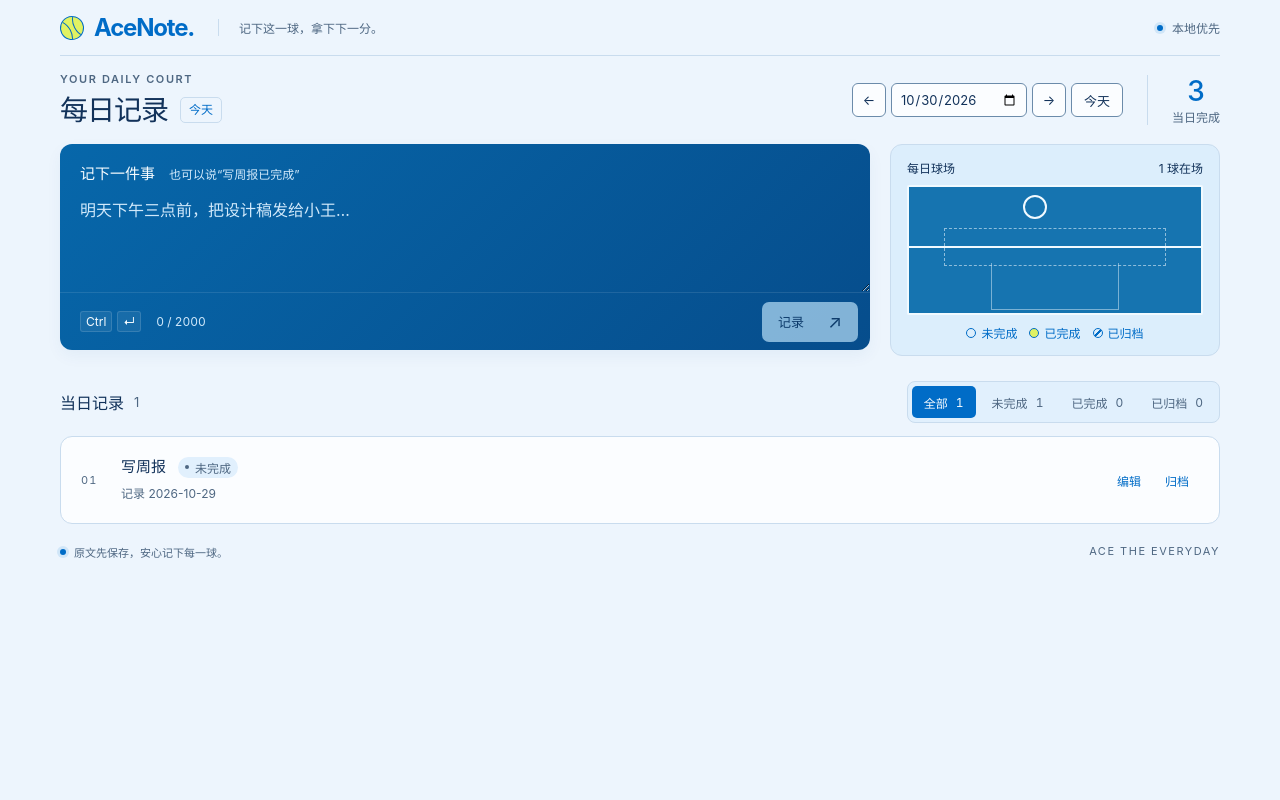
Scenario: UI polish behavior › keeps the draft when submission fails
Type "不能丢失的输入" into the text box named "待办或完成指令" at (465, 238), box top-left (60, 183), bottom-right (870, 292)
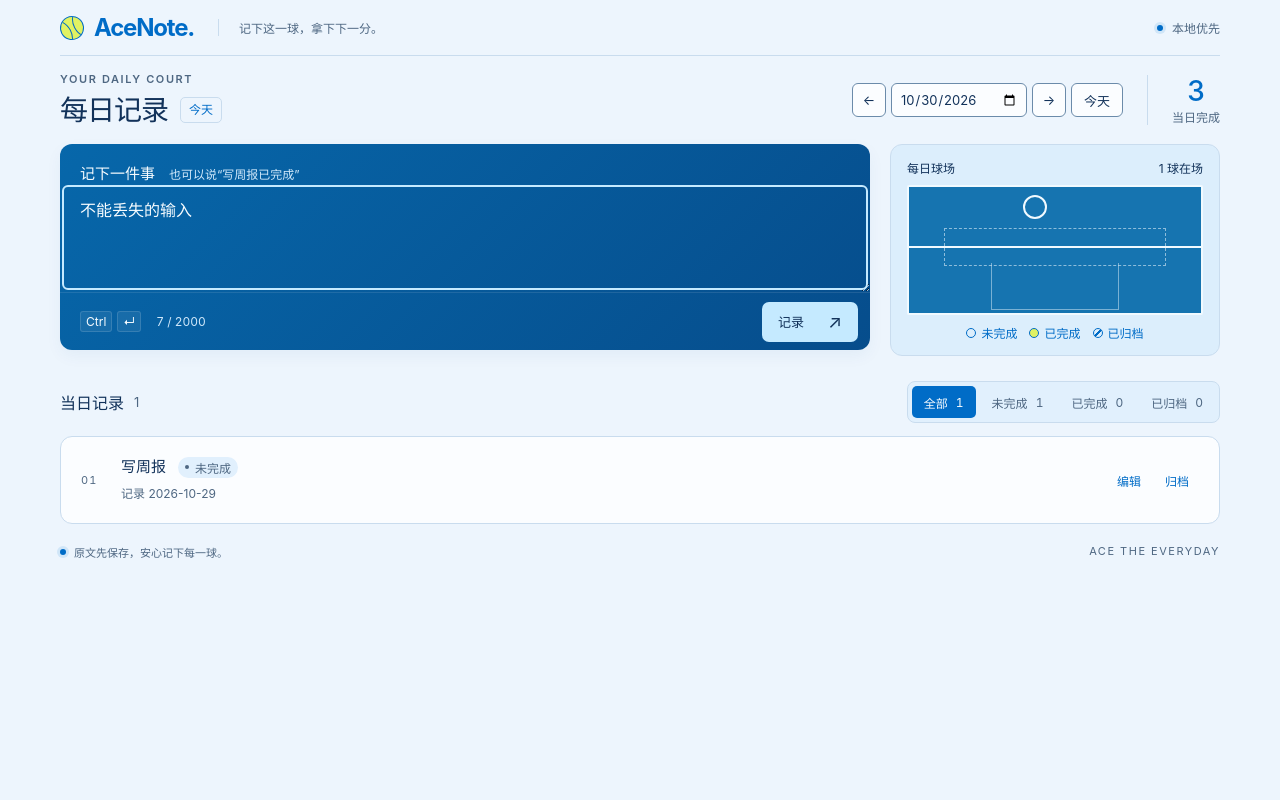
Click the button "记录 ↗" at (810, 322), box top-left (762, 302), bottom-right (858, 342)
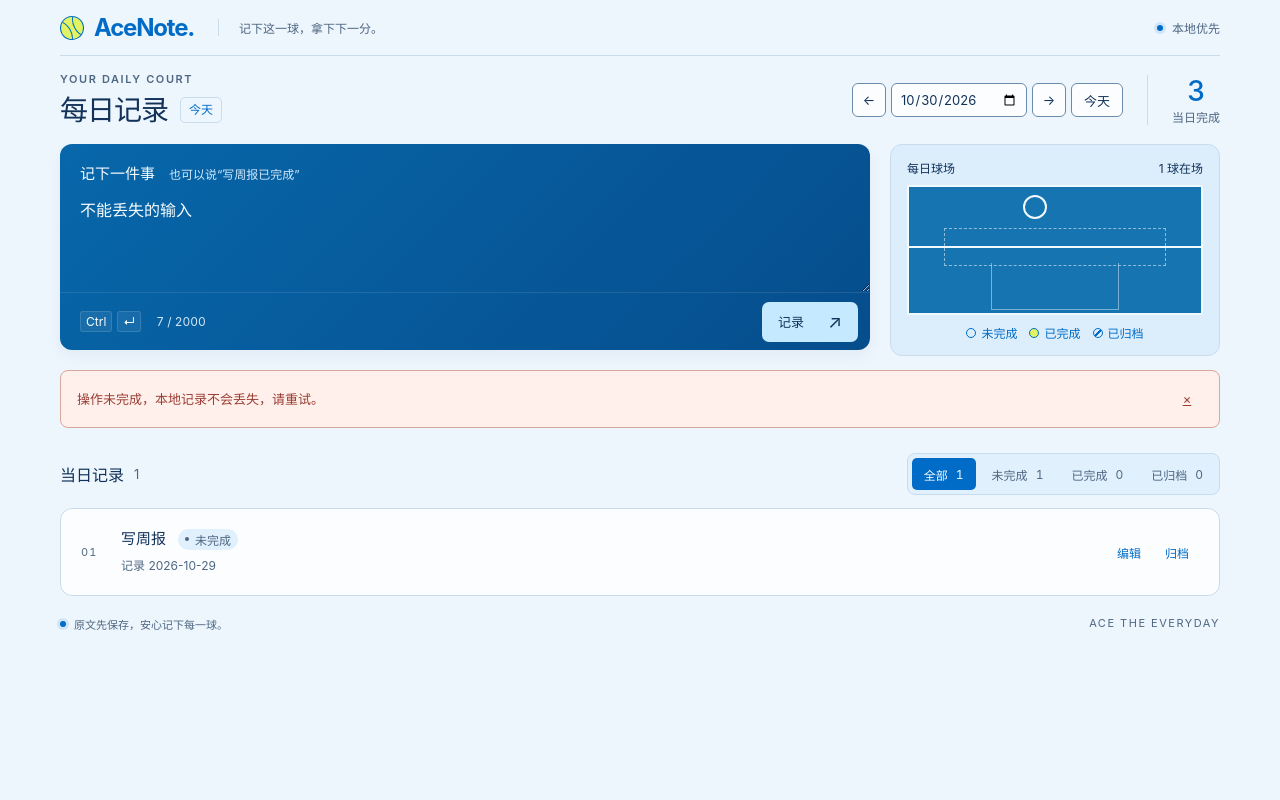
Now the message shows "操作未完成", box top-left (77, 391), bottom-right (324, 407)
